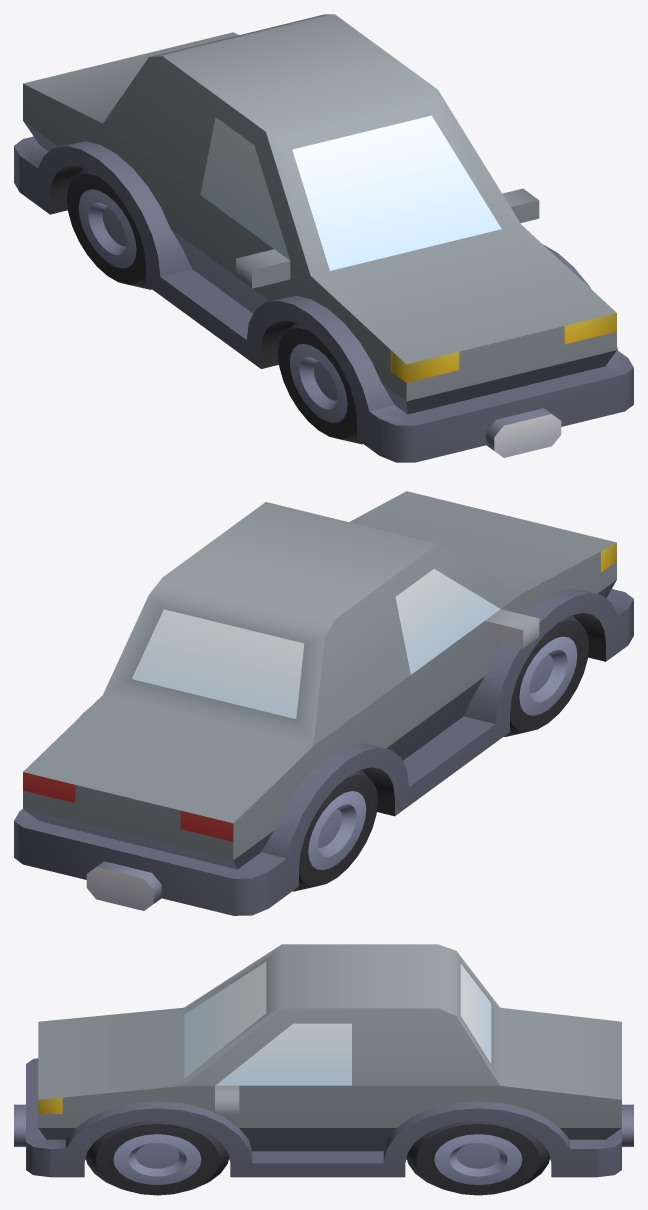
The model's file is sedan-silver.glb.
The picture shows the model from 3 angles, top to bottom: view 1: azimuth 30°, elevation 25°; view 2: azimuth 150°, elevation 25°; view 3: azimuth 270°, elevation 25°; orthographic projection. The views are drawn at different scales.
Visible parts, largest first — view 1: sedan; view 2: sedan; view 3: sedan.
Boxes of the visible parts, bbox=[...] form: sedan: bbox=[14, 14, 633, 462]; sedan: bbox=[14, 491, 633, 915]; sedan: bbox=[14, 944, 633, 1195].
Bounding box in the file's own units: 1.85 × 1.48 × 4.55.
Materials: 1 (1 with a texture image).
